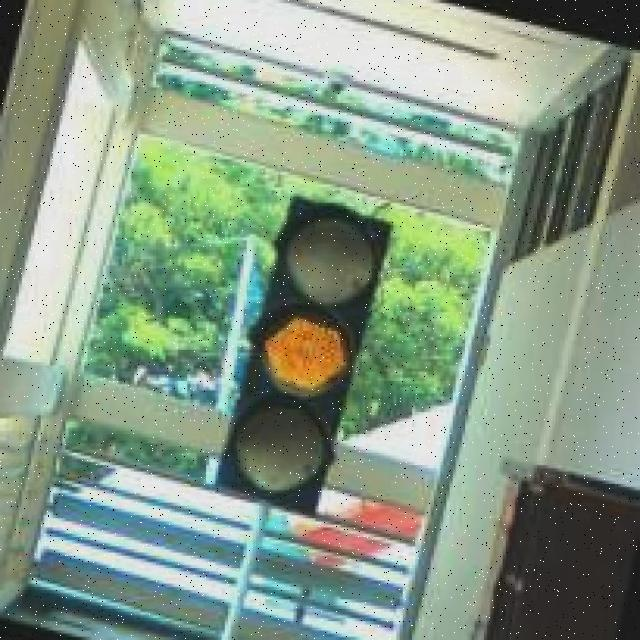Lampu Kuning: (210, 184, 396, 521)
